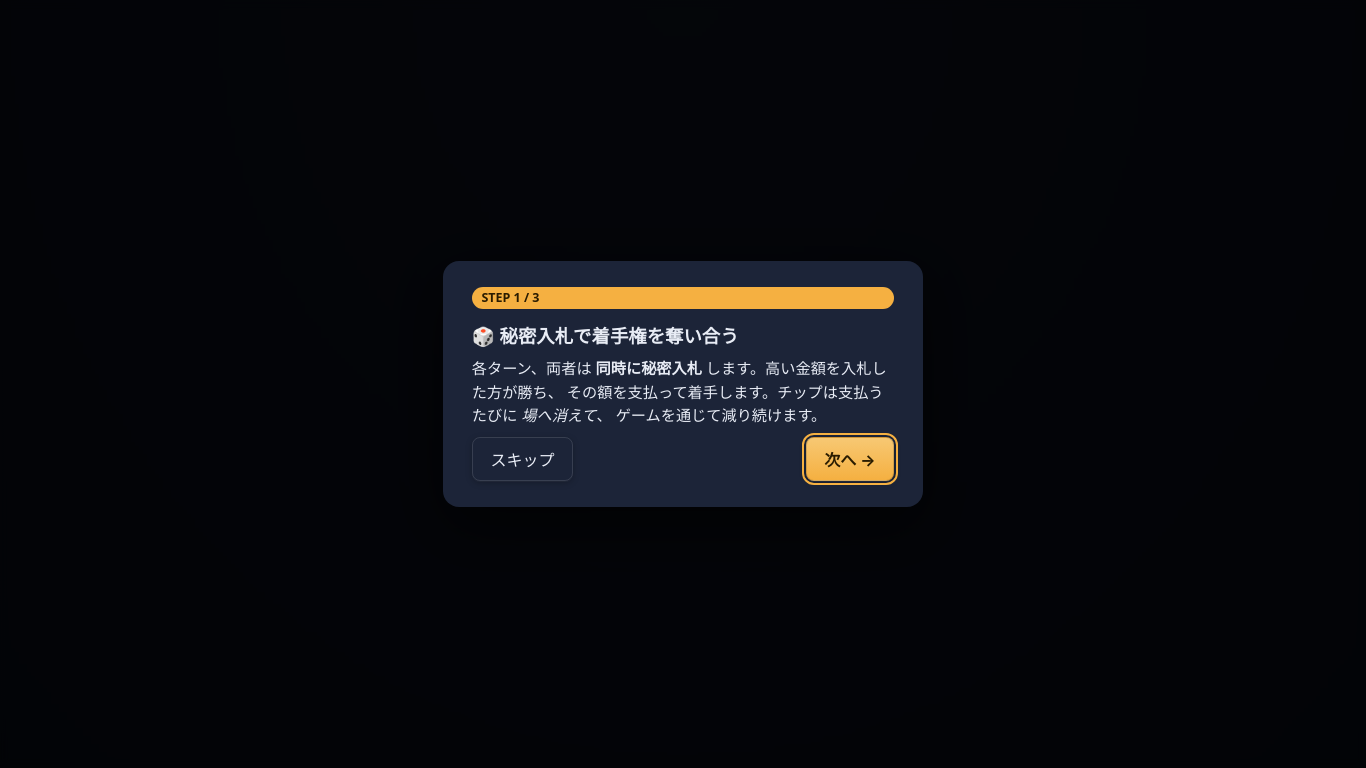
Tour › cycles through 3 steps and reports seen
The width and height of the screenshot is (1366, 768).
Later steps or results of the test are not shown.
Expected: the text "STEP 1 / 3" is shown, [472,287,894,309]
Click the button "次へ →".
click(850, 459)  # box [806,437,894,481]
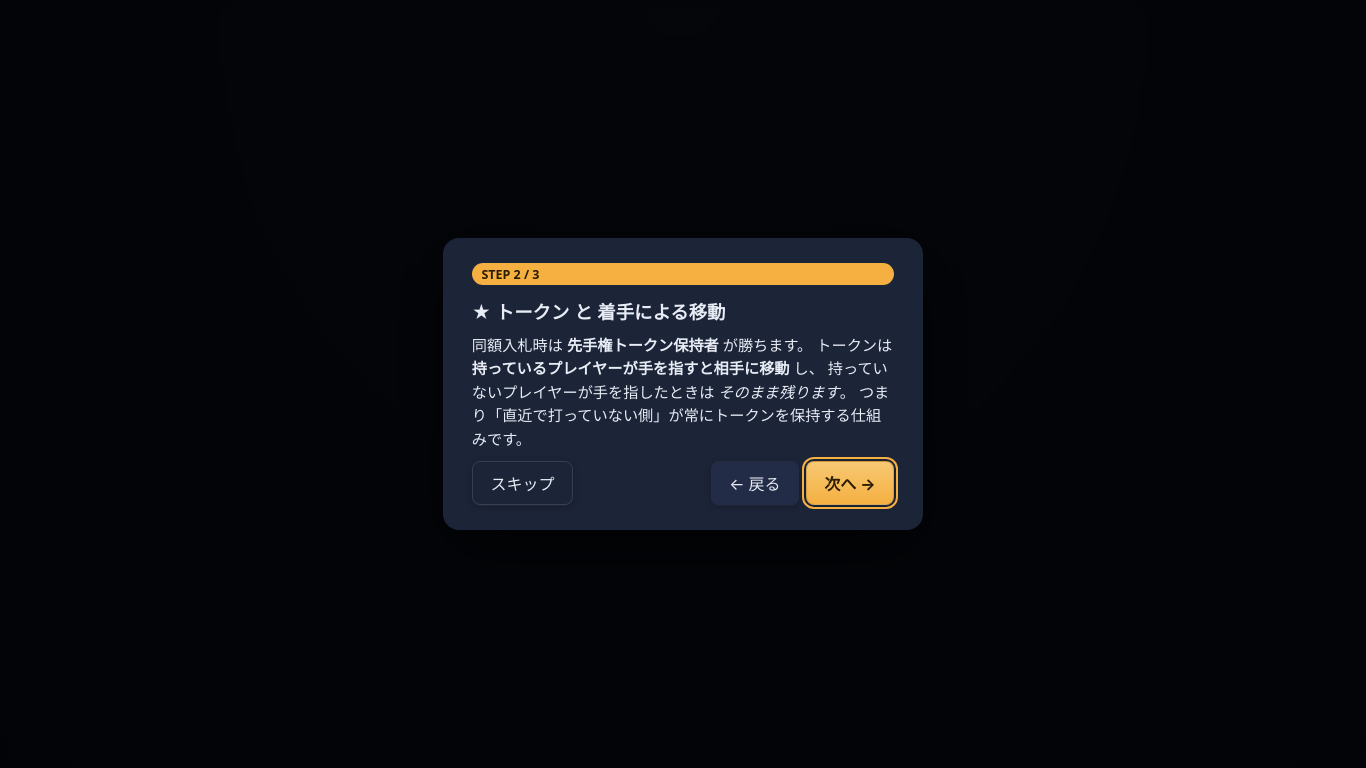
Expected: the text "STEP 2 / 3" is shown, [472,263,894,285]
Click the button "次へ →".
click(850, 483)  # box [806,461,894,505]
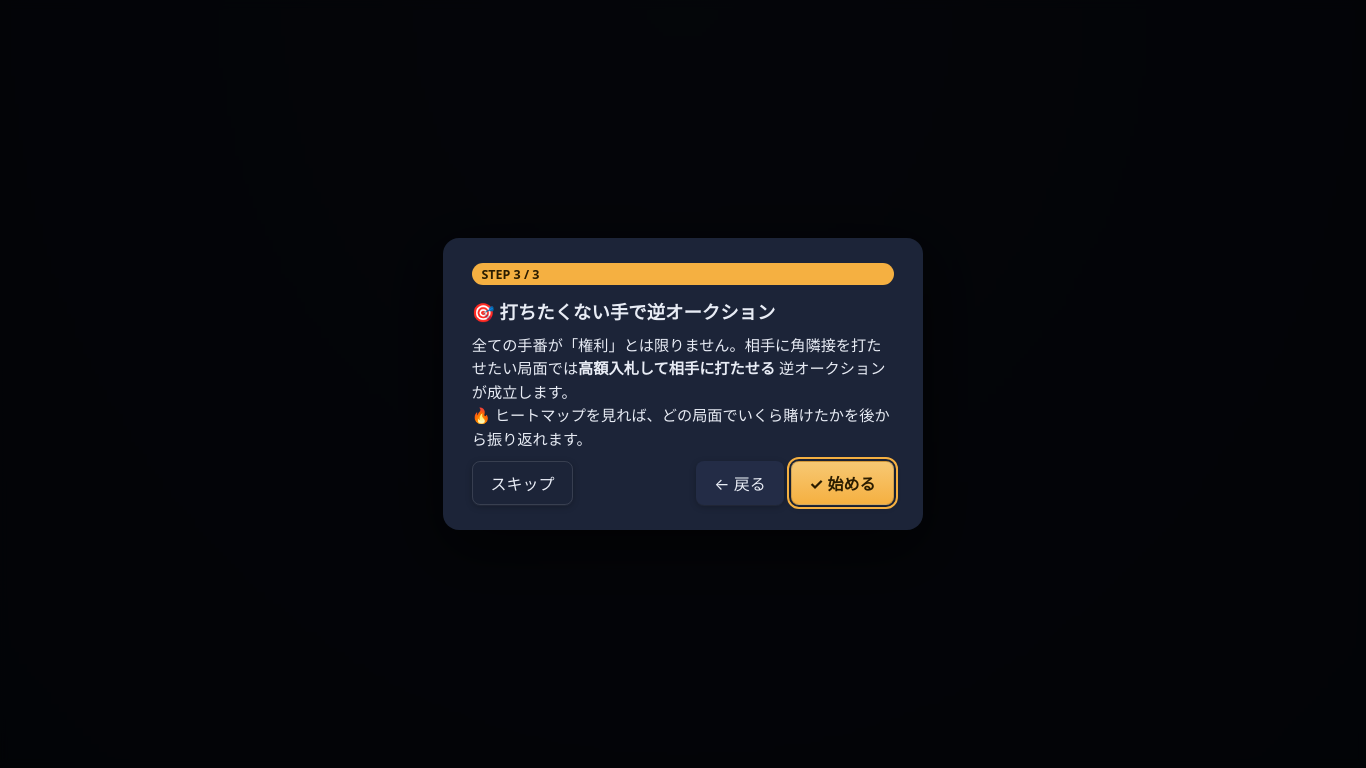
Expected: the text "STEP 3 / 3" is shown, [472,263,894,285]
Expected: the button "次へ" is gone
